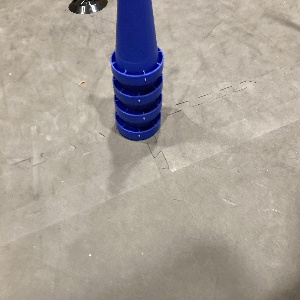Blue_4: (105, 0, 167, 144)
